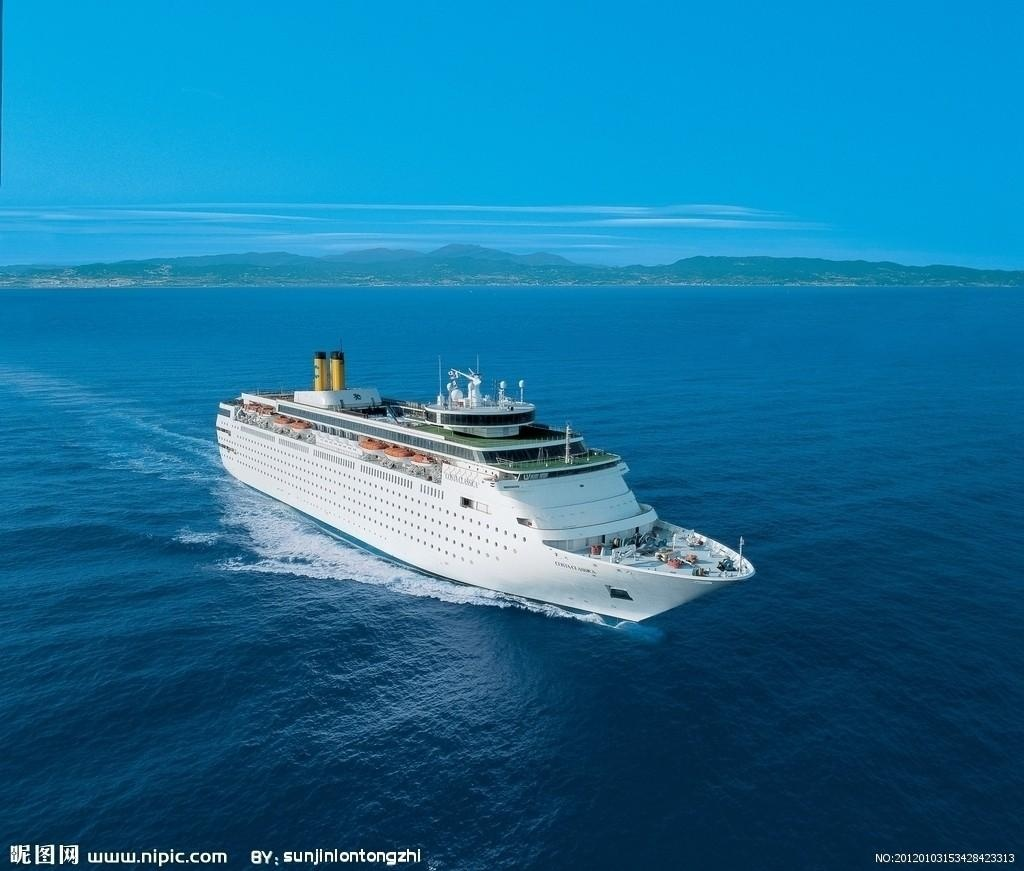youlun: (207, 338, 755, 631)
